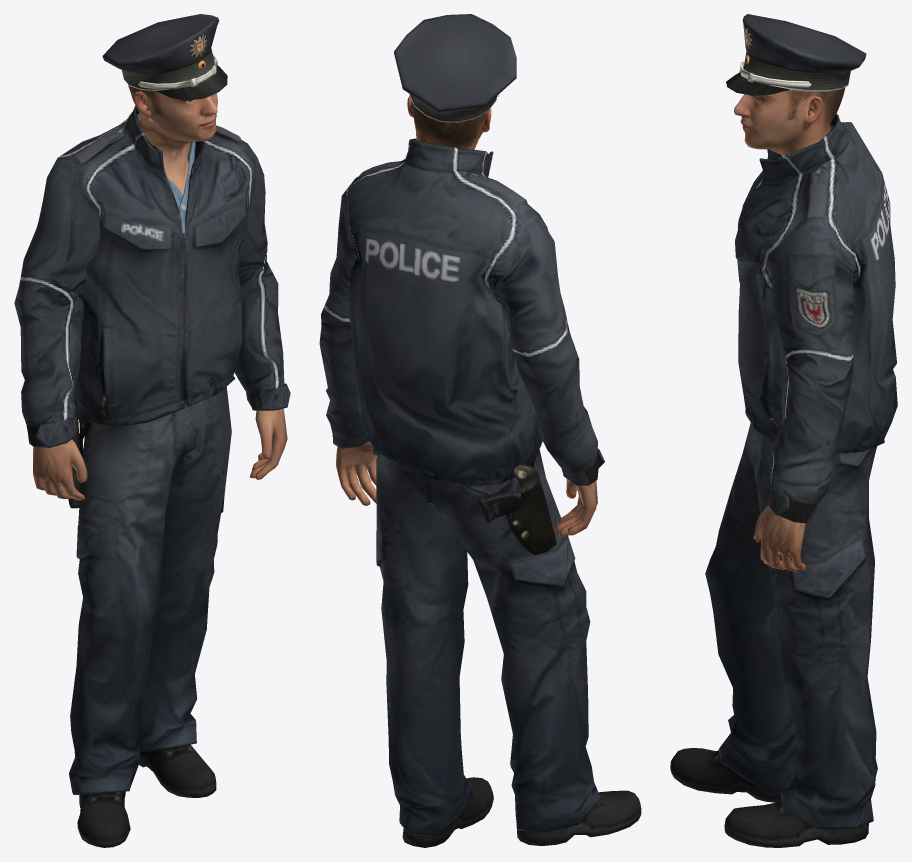
Rendered from policeman.glb.
The picture shows the model from 3 angles, left to right: view 1: azimuth 30°, elevation 25°; view 2: azimuth 150°, elevation 25°; view 3: azimuth 270°, elevation 25°; orthographic projection. The views are drawn at different scales.
Parts seen in each view (by area): view 1: Object_2, Object_4; view 2: Object_2, Object_4, Object_3; view 3: Object_2, Object_4.
Boxes of the visible parts, x1,y1,x2,y2 form: Object_2: (14, 105, 290, 847); Object_4: (102, 14, 227, 195); Object_2: (319, 138, 641, 847); Object_4: (394, 14, 516, 149); Object_3: (477, 477, 521, 523); Object_2: (670, 114, 897, 847); Object_4: (726, 14, 866, 155).
Bounding box in the file's own units: 1.29 × 3.68 × 0.9267.
3 materials, 3 textured.
